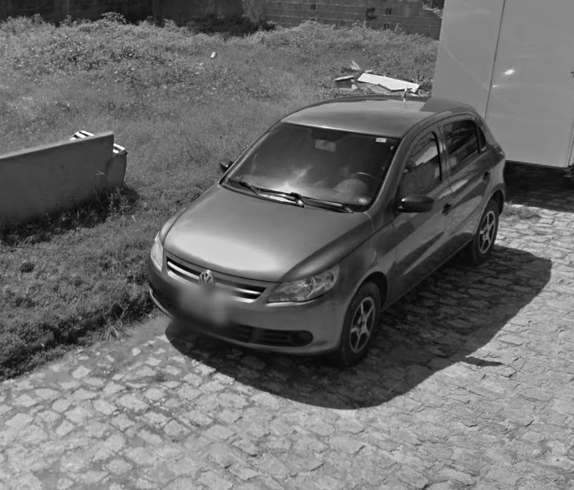car: (145, 92, 508, 373)
